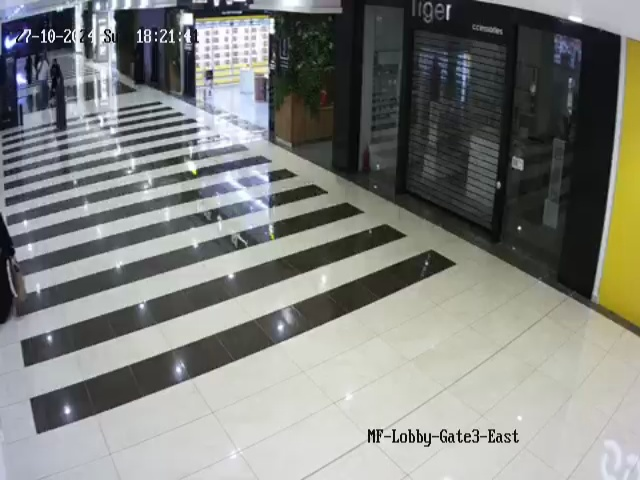female: (0, 212, 20, 325), (52, 74, 72, 130), (52, 57, 67, 83)
male: (35, 52, 50, 111)
